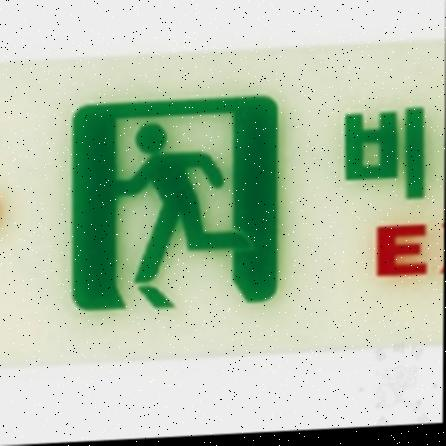emergency_exit: (1, 37, 444, 441), (70, 94, 280, 312)
